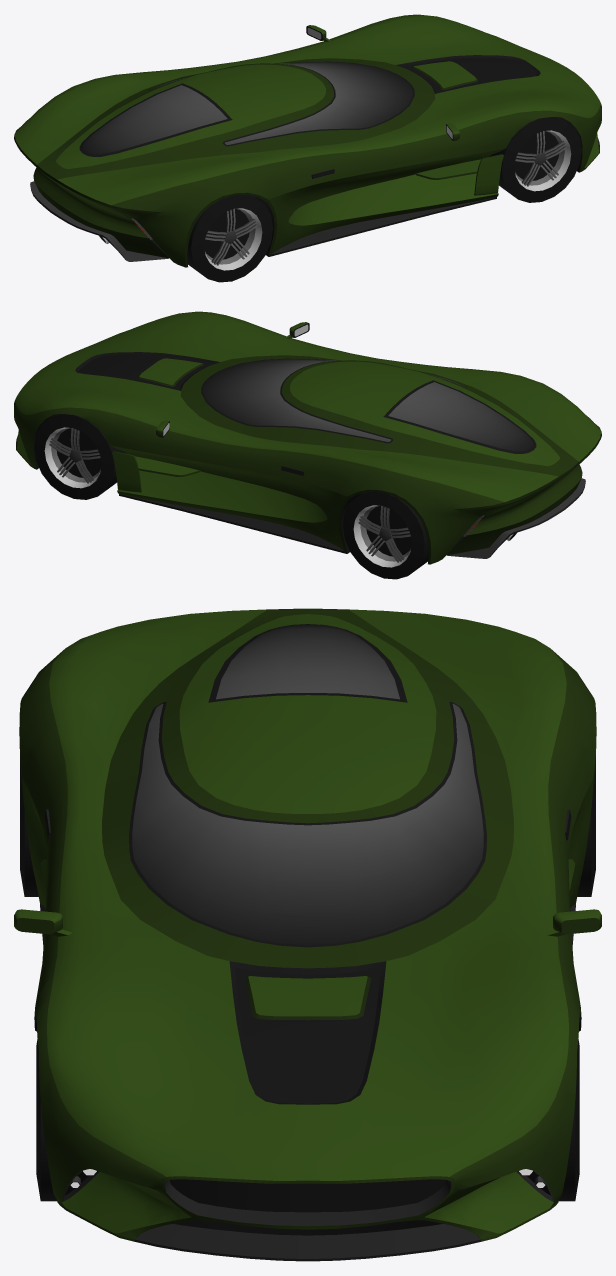
File: Car_062.glb
3 renders of one model, top to bottom at view 1: azimuth 30°, elevation 25°; view 2: azimuth 150°, elevation 25°; view 3: azimuth 270°, elevation 25°, orthographic. The views are drawn at different scales.
Parts seen in each view (by area): view 1: Car_062, wheel_3_Car_062_Wheel_2R, wheel_1_Car_062_Wheel_1R; view 2: Car_062, wheel_2_Car_062_Wheel_2L, wheel_0_Car_062_Wheel_1L; view 3: Car_062, wheel_1_Car_062_Wheel_1R, wheel_0_Car_062_Wheel_1L, wheel_3_Car_062_Wheel_2R, wheel_2_Car_062_Wheel_2L.
Part boxes in pixels (x1,y1,x2,y2): Car_062: (14, 14, 601, 267); wheel_3_Car_062_Wheel_2R: (187, 194, 272, 282); wheel_1_Car_062_Wheel_1R: (489, 117, 581, 202); Car_062: (14, 311, 601, 564); wheel_2_Car_062_Wheel_2L: (343, 491, 428, 579); wheel_0_Car_062_Wheel_1L: (34, 414, 126, 499); Car_062: (14, 608, 601, 1261); wheel_1_Car_062_Wheel_1R: (36, 1039, 57, 1201); wheel_0_Car_062_Wheel_1L: (558, 1039, 579, 1201); wheel_3_Car_062_Wheel_2R: (20, 758, 38, 896); wheel_2_Car_062_Wheel_2L: (577, 758, 595, 896).
Bounding box in the file's own units: 4.96 × 1.09 × 2.39.
Materials: 2 (2 with a texture image).
